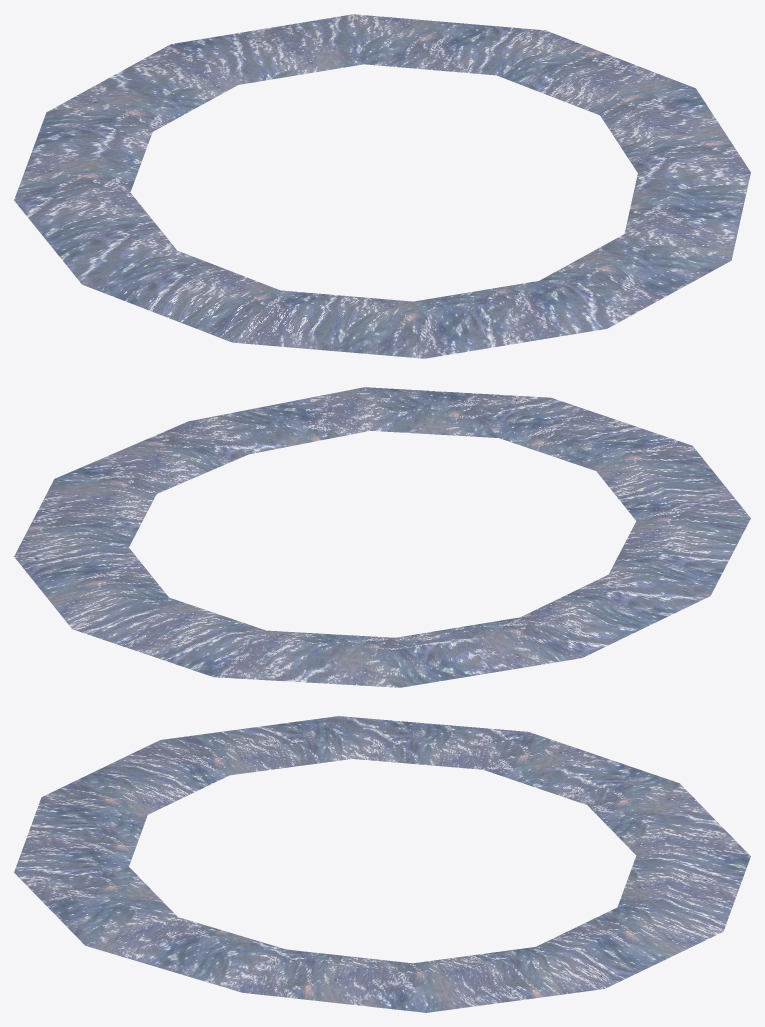
Rendered from haisuei.obj.
3 views of the same model, one above another, from view 1: azimuth 30°, elevation 25°; view 2: azimuth 150°, elevation 25°; view 3: azimuth 270°, elevation 25° (orthographic). The views are drawn at different scales.
Parts seen in each view (by area): view 1: haisuei; view 2: haisuei; view 3: haisuei.
Part boxes in pixels (box(x1,y1,x2,y2)): haisuei: box(14, 14, 750, 358); haisuei: box(14, 387, 750, 687); haisuei: box(14, 716, 750, 1012).
Bounding box in the file's own units: 7719 × 107 × 8099.
